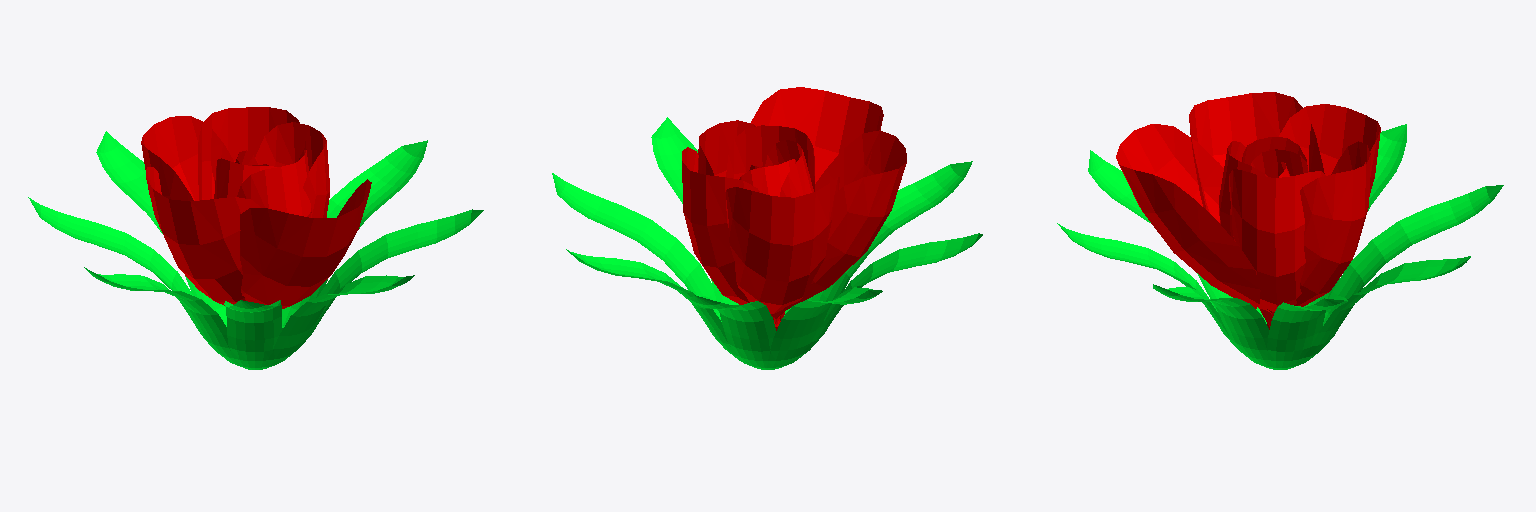
File: FlowerTopModel_03_seq_0026.obj
3 renders of one model, left to right at view 1: azimuth 30°, elevation 25°; view 2: azimuth 150°, elevation 25°; view 3: azimuth 270°, elevation 25°, orthographic.
Parts seen in each view (by area): view 1: FlowerTopModel_03; view 2: FlowerTopModel_03; view 3: FlowerTopModel_03.
Part boxes in pixels (bbox=[...]): FlowerTopModel_03: bbox=[28, 107, 483, 369]; FlowerTopModel_03: bbox=[552, 87, 982, 369]; FlowerTopModel_03: bbox=[1057, 92, 1503, 369].
Size of the model in its own units: 658 by 360 by 658.